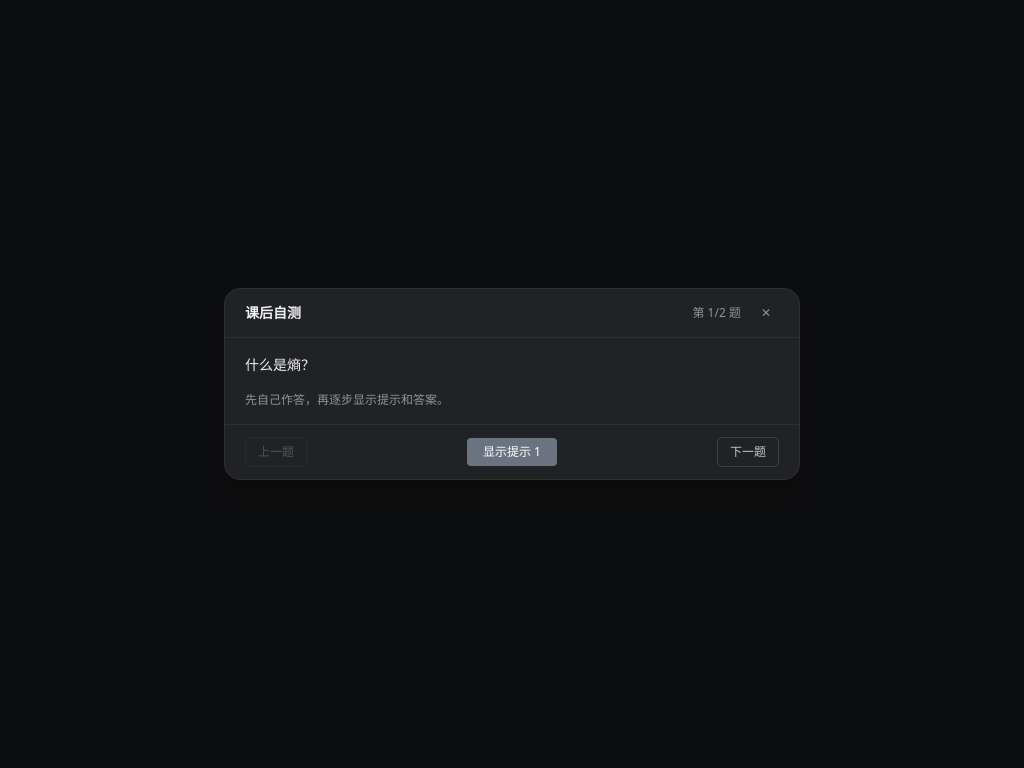
Test: SelfTestModal › reveals hints one at a time and then the answer
Expected: the text "第 1/2 题" is shown, [692,305,741,321]
Expected: the text "先自己作答，再逐步显示提示和答案。" is shown, [245,391,449,408]
What coordinates should you click on to do the following:
click the button "显示提示 1"
I would click on:
 (512, 452)
Its box is [467,438,557,466].
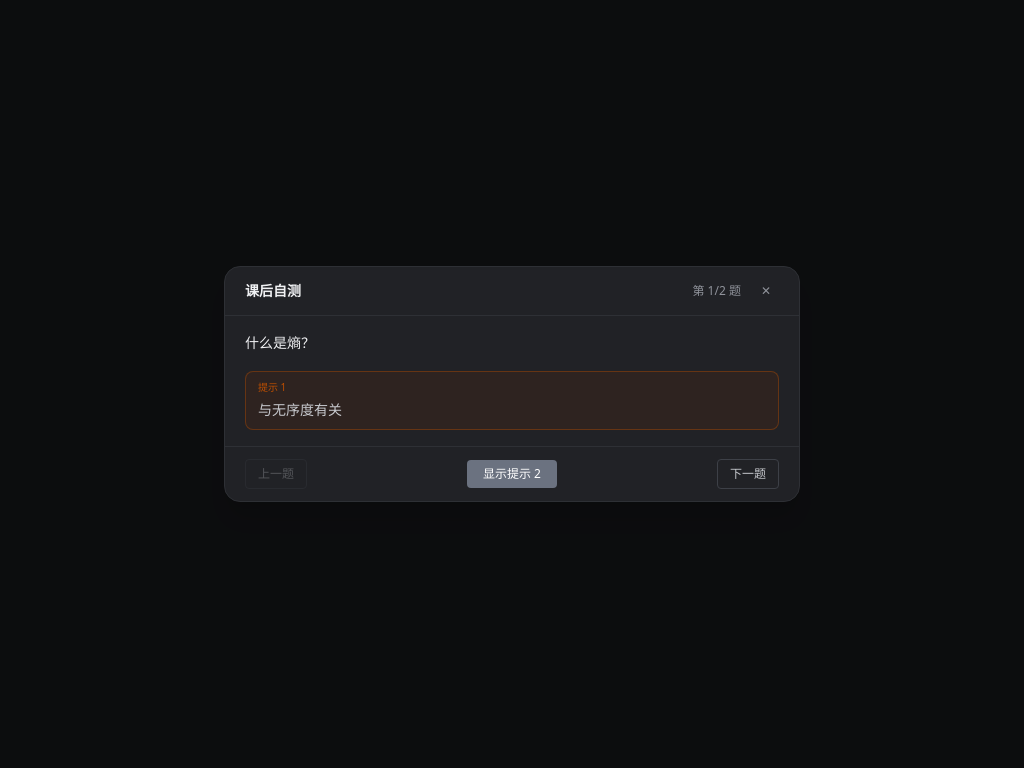
Expected: the text "提示 1" is shown, [258,380,286,394]
Expected: the text "与无序度有关" is shown, [258,400,342,418]
What coordinates should you click on to do the following:
click the button "显示提示 2"
I would click on:
 (512, 474)
Its box is [467,460,557,488].
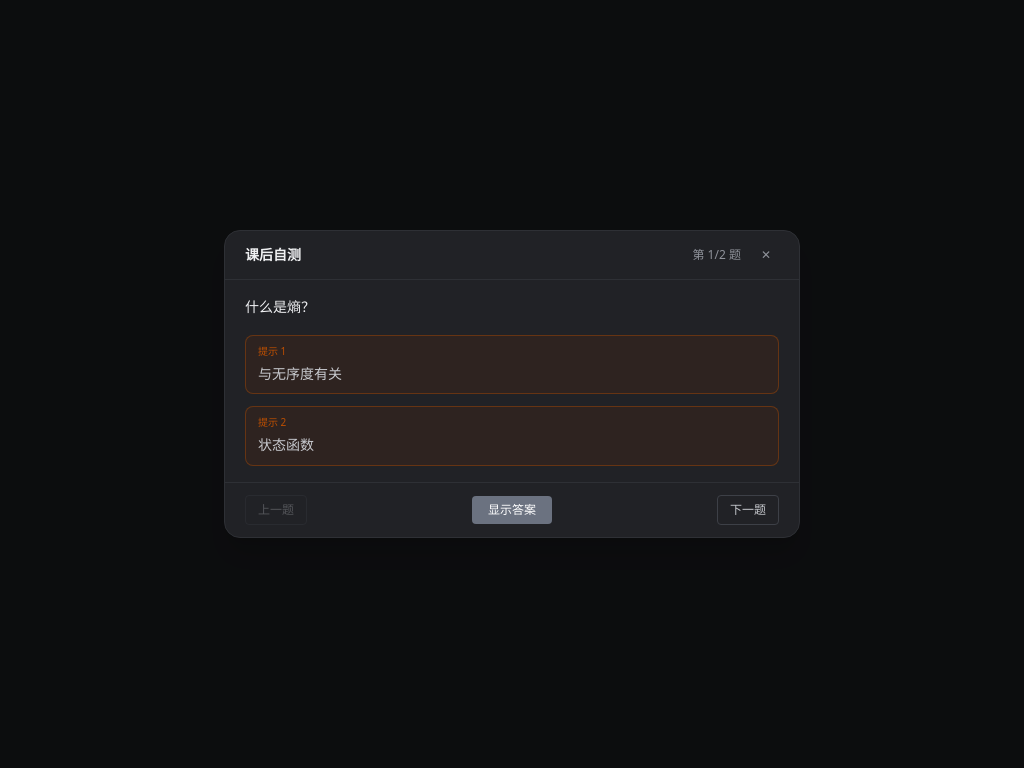
Expected: the text "提示 2" is shown, [258,415,286,429]
Expected: the text "状态函数" is shown, [258,435,314,454]
What coordinates should you click on to do the following:
click the button "显示答案"
I would click on:
 (512, 510)
Its box is [472,496,552,524].
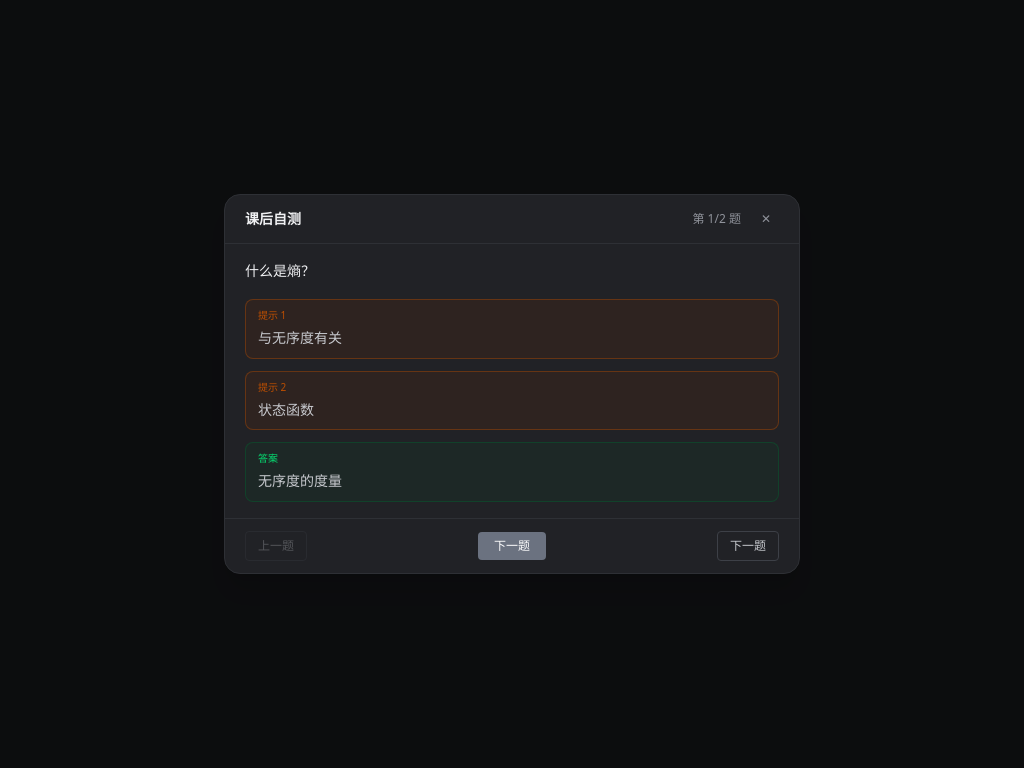
Expected: the text "答案" is shown, [258,451,278,465]
Expected: the text "无序度的度量" is shown, [258,471,342,490]
